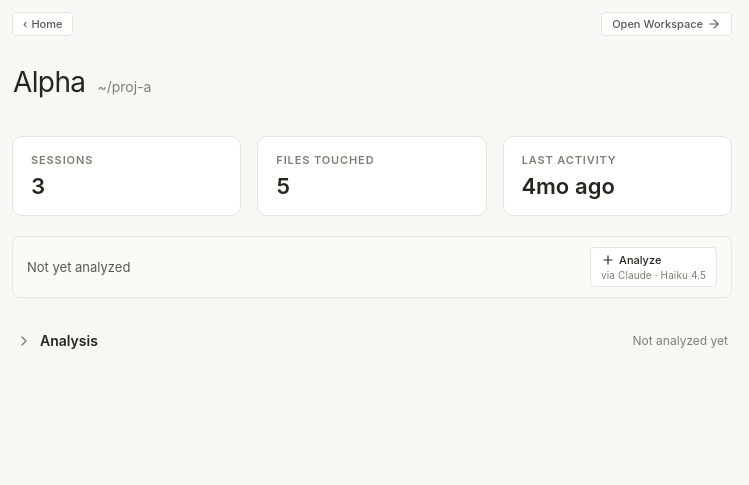
ProjectScreen › auto-expands the accordion after a fresh Analyze
The image size is (749, 485).
Expected: the text "Fresh summary" is not shown
/^Analyze/ hits the Analyze action, not the accordion's "Analysis …" header.
Click the button "Analyze via Claude · Haiku 4.5".
click(654, 267)  # box [590,247,717,287]
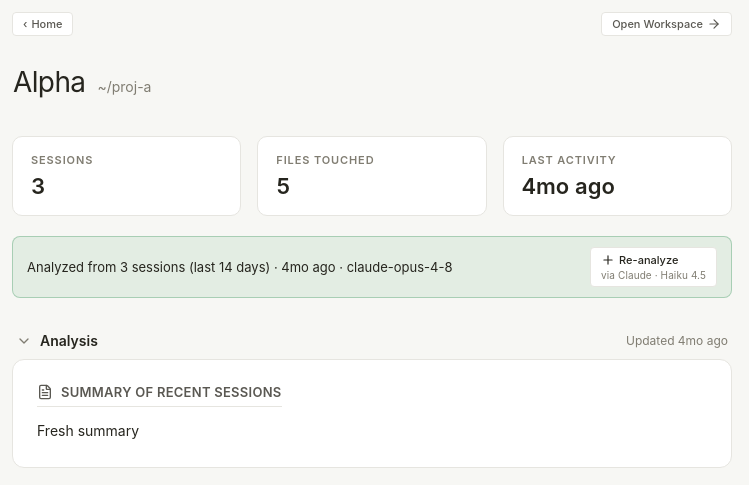
Expected: the text "Fresh summary" is shown, [37,422,139,439]
